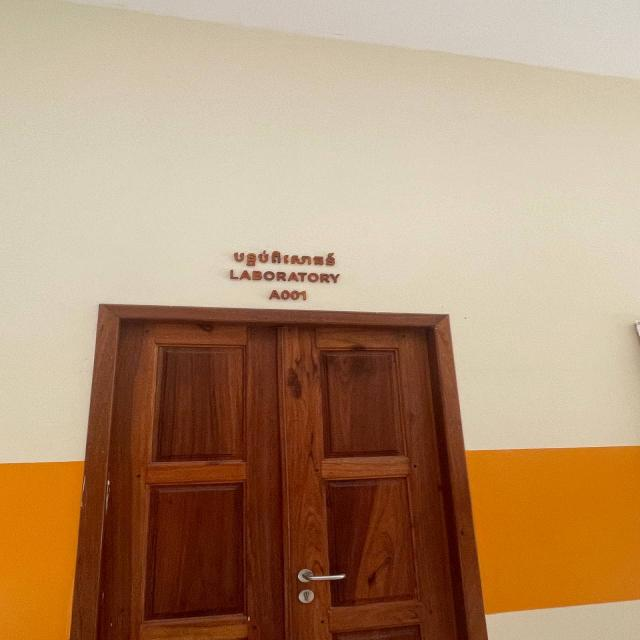208: (279, 286, 312, 305)
Yolov11kh: (227, 244, 336, 272)
